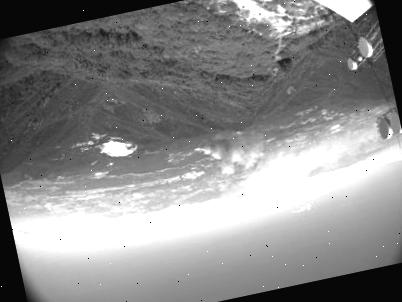smoke: (193, 114, 360, 215)
